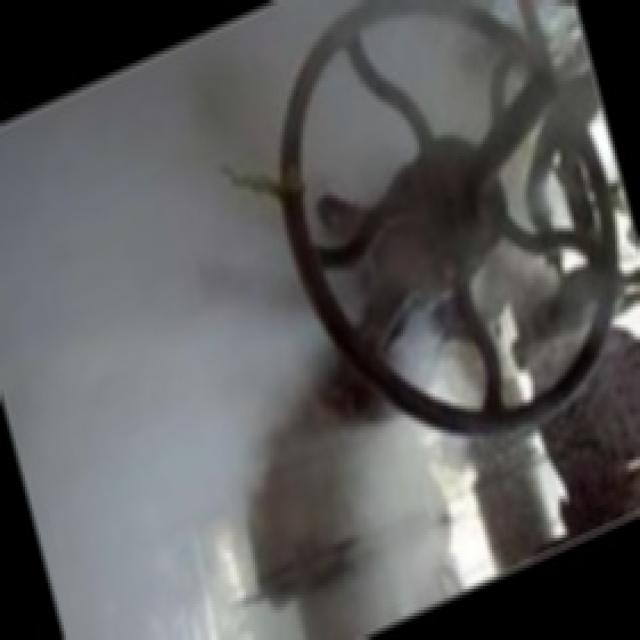smoke: (0, 99, 378, 640)
